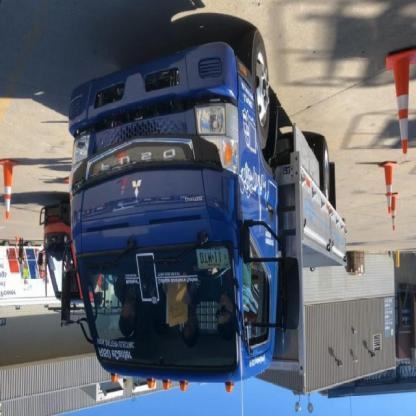truck: (62, 31, 346, 399)
